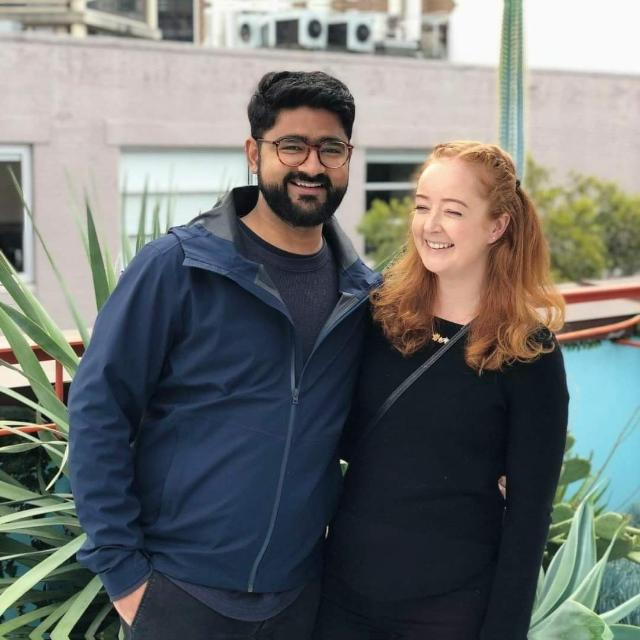person: (130, 54, 384, 534), (366, 130, 560, 594)
